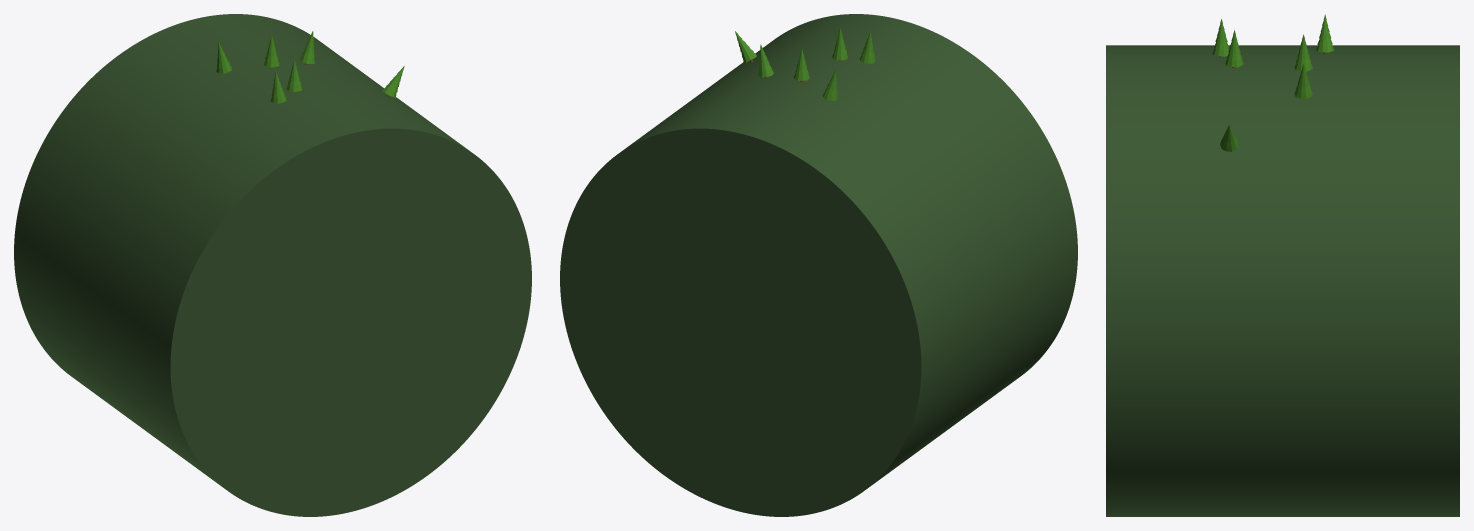
Rendered from cylinderMapTest2.glb.
3 renders of one model, left to right at view 1: azimuth 30°, elevation 25°; view 2: azimuth 150°, elevation 25°; view 3: azimuth 270°, elevation 25°, orthographic. The views are drawn at different scales.
Visible parts, largest first — view 1: Cylinder.003; view 2: Cylinder.003; view 3: Cylinder.003.
Boxes of the visible parts, x1,y1,x2,y2 form: Cylinder.003: (14,14,531,516); Cylinder.003: (560,14,1077,516); Cylinder.003: (1106,45,1459,516).
Size of the model in its own units: 100 by 109 by 75.
